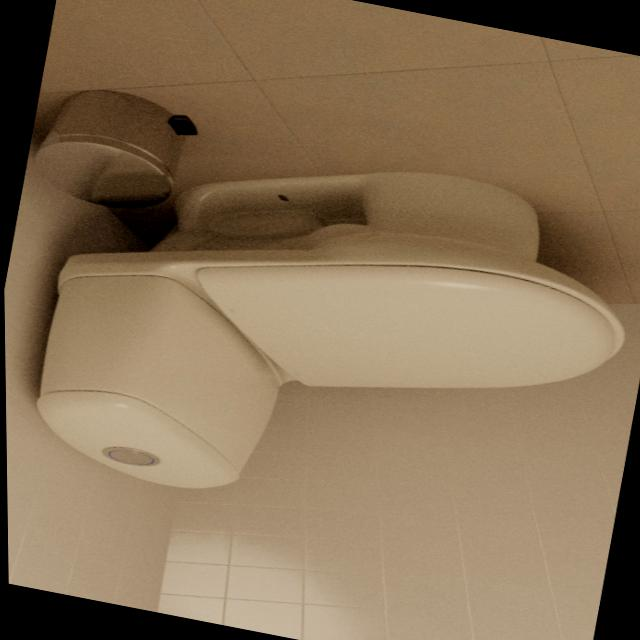toilet: (17, 104, 640, 568)
